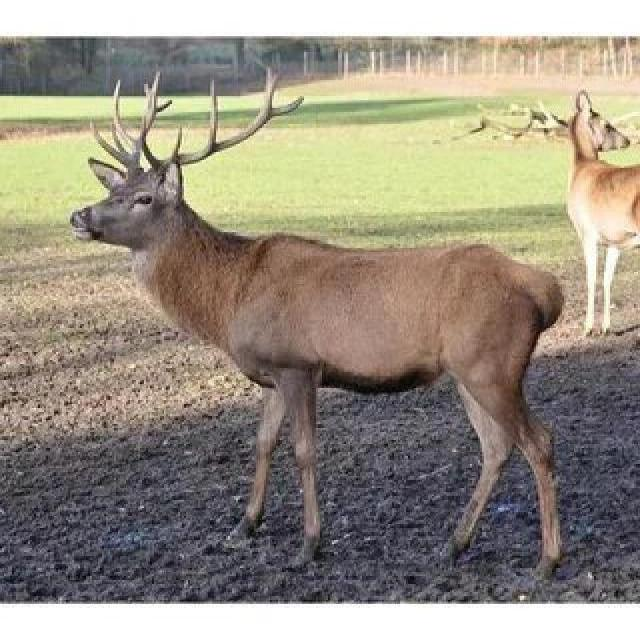deer: (0, 68, 640, 591)
